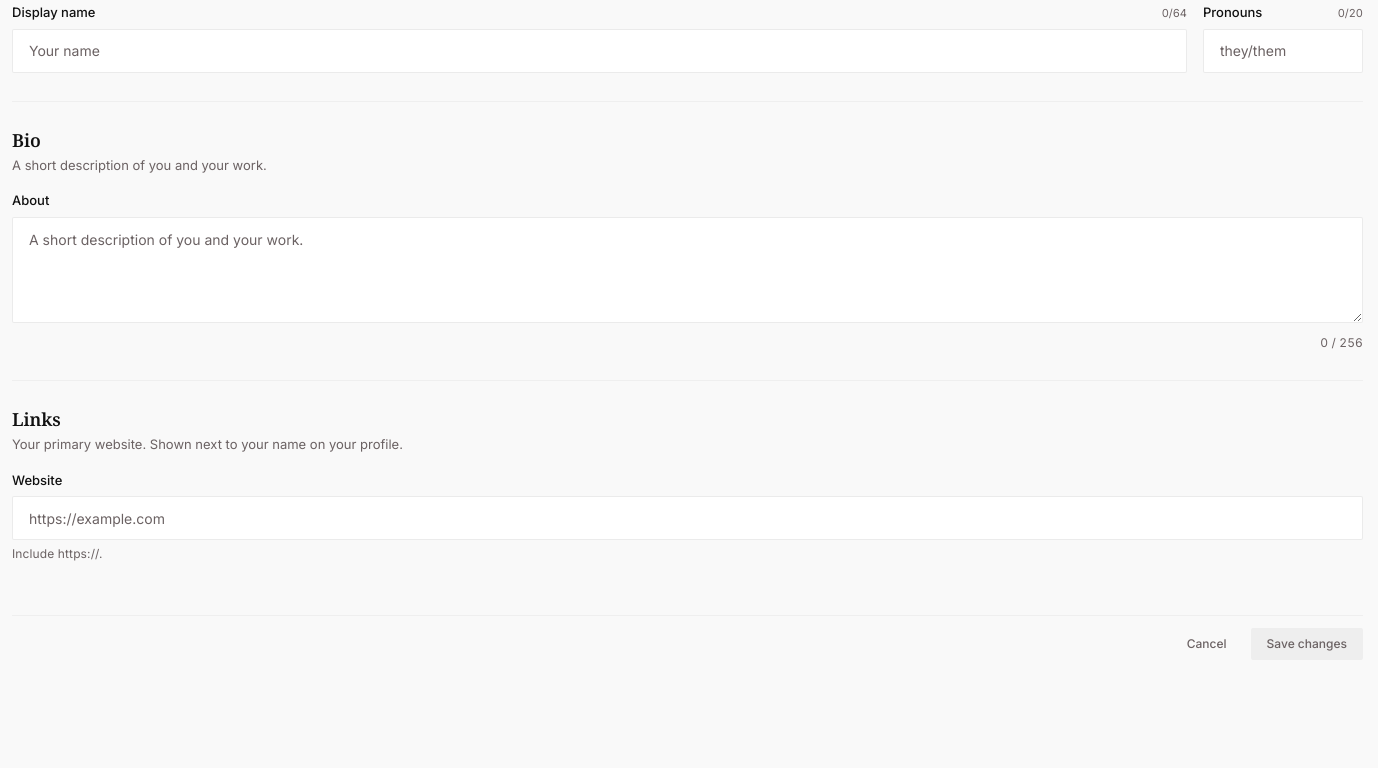
it: ProfileEditForm error aria-describedby › links the website input to its error text when invalid
(page scrolled)
Type "not a url" into the field labelled "Website".
click(688, 518); type("not a url")  # box top-left (12, 496), bottom-right (1363, 540)
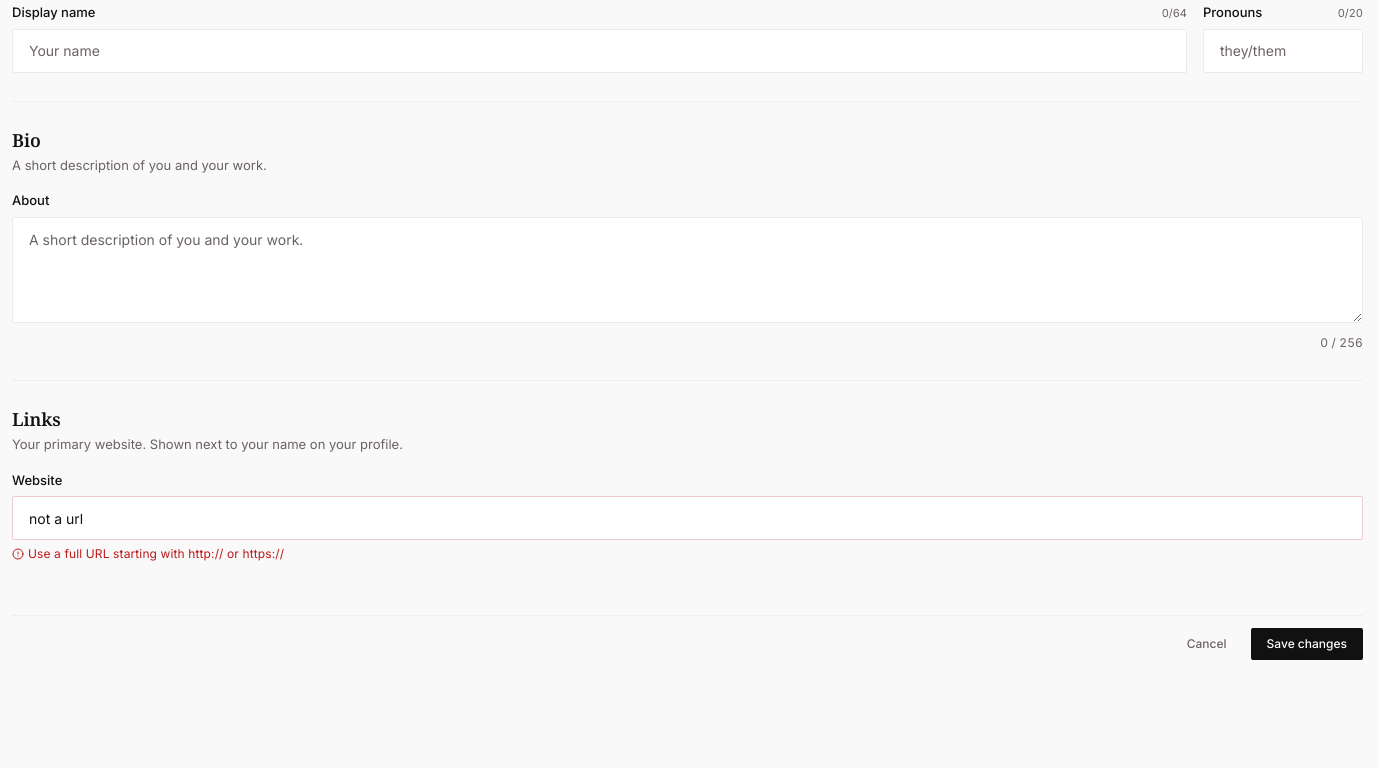
Result: the message "Use a full URL starting with http:// or https://" is shown at top-left (12, 546), bottom-right (284, 561)
